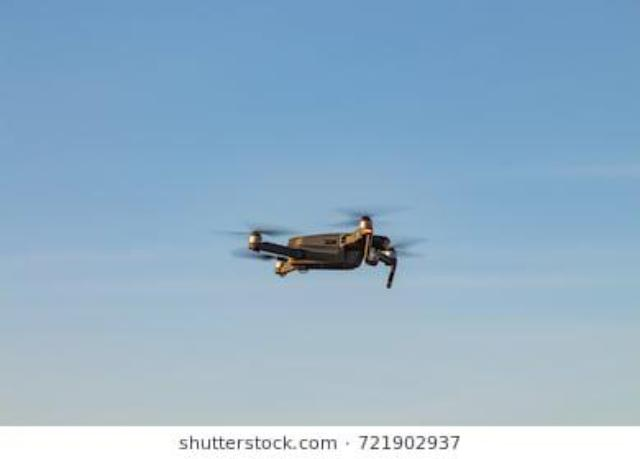drone: (0, 205, 640, 459)
